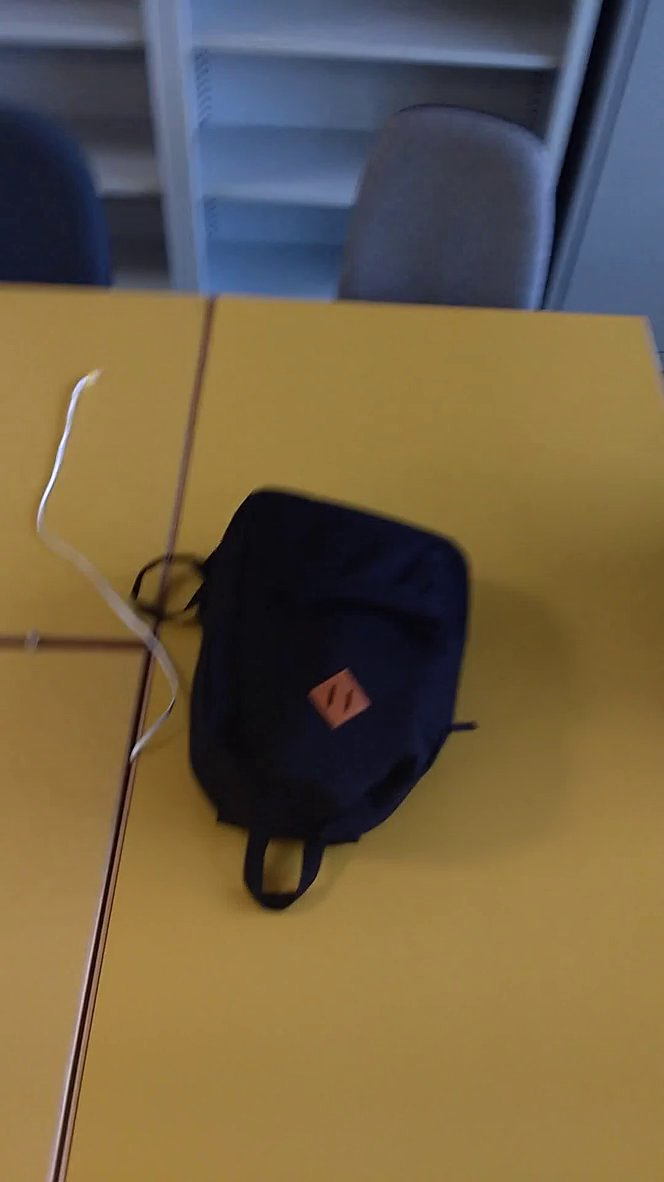bag: (129, 479, 490, 917)
chair: (337, 75, 562, 361)
